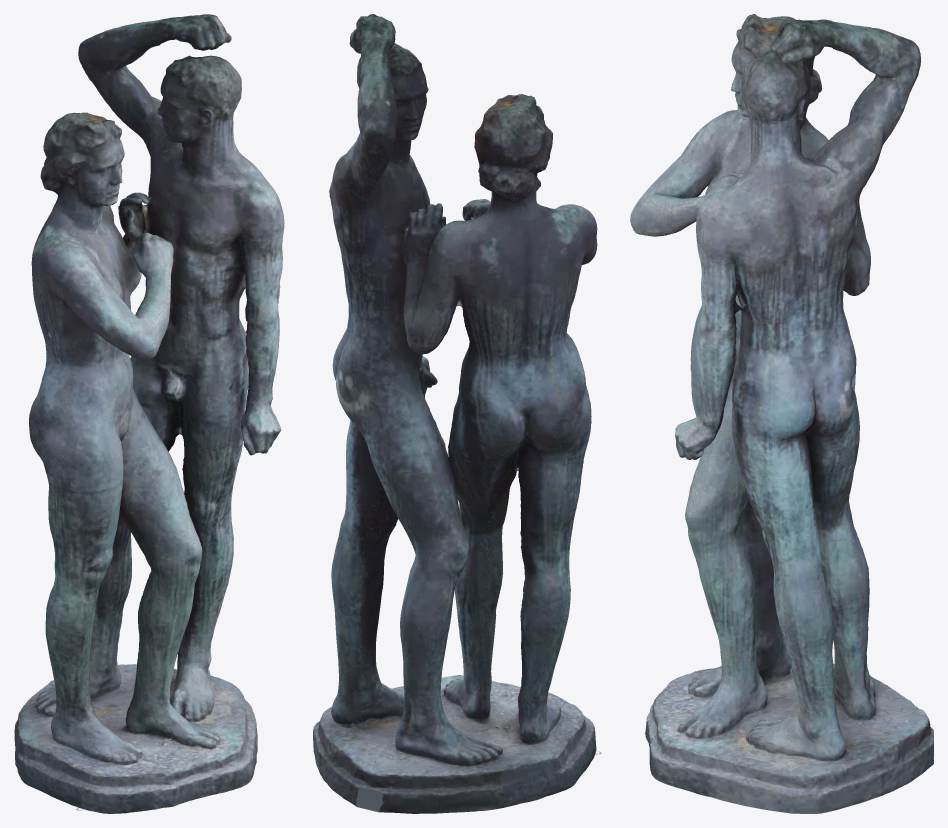
File: preview.glb
3 views of the same model, side by side, from view 1: azimuth 30°, elevation 25°; view 2: azimuth 150°, elevation 25°; view 3: azimuth 270°, elevation 25° (orthographic). The views are drawn at different scales.
Parts seen in each view (by area): view 1: Object_4; view 2: Object_4; view 3: Object_4.
Boxes of the visible parts, left/top/right/bottom form: Object_4: left=14, top=14, right=284, bottom=813; Object_4: left=313, top=14, right=601, bottom=813; Object_4: left=630, top=14, right=933, bottom=813.
Bounding box in the file's own units: 0.7785 × 2.27 × 0.8142.
Materials: 1 (1 with a texture image).
